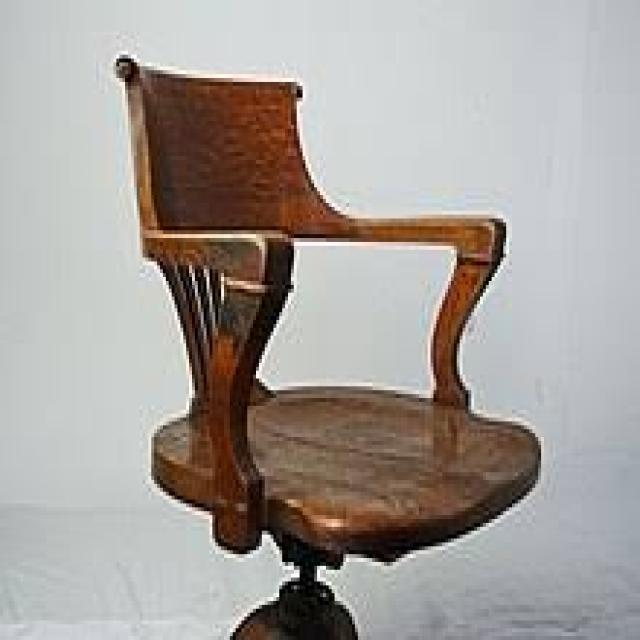chair: (75, 19, 576, 640)
